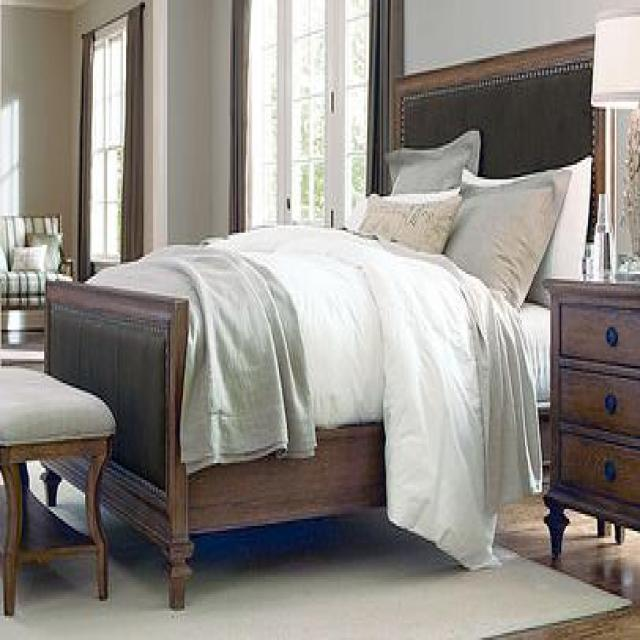bed: (39, 29, 606, 611)
